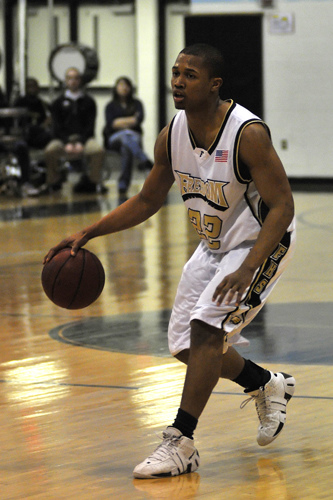basketball: (41, 247, 106, 310)
